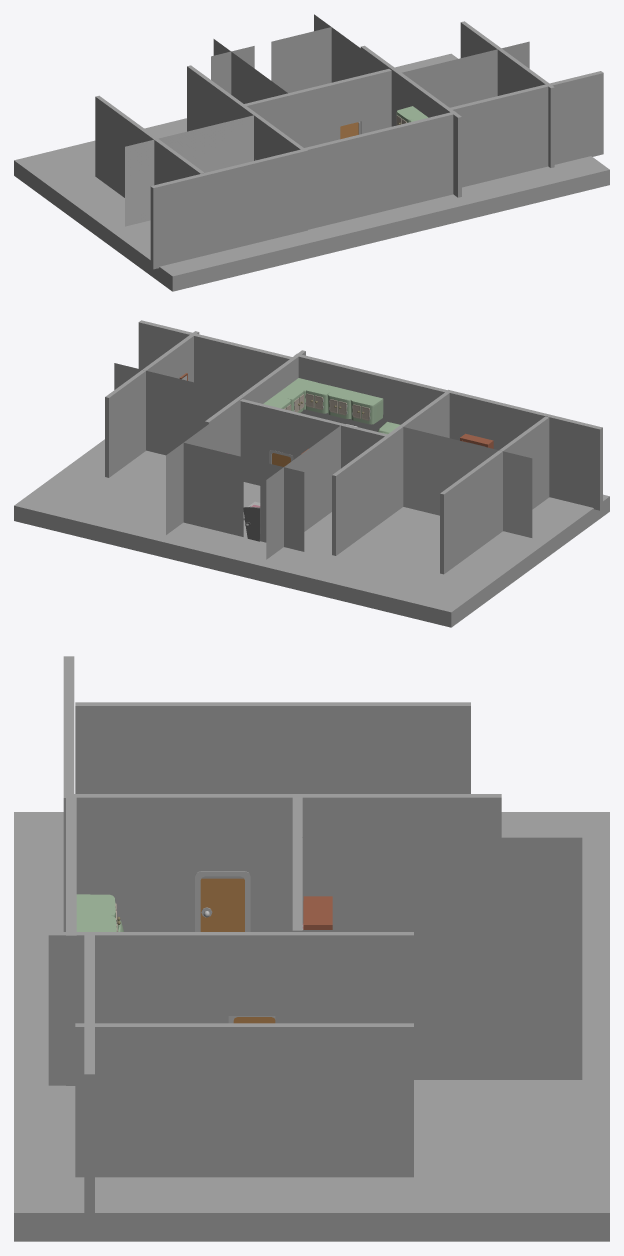
File: Rose and Kirk1.fbx
3 views of the same model, one above another, from view 1: azimuth 30°, elevation 25°; view 2: azimuth 150°, elevation 25°; view 3: azimuth 270°, elevation 25° (orthographic). The views are drawn at different scales.
Visible parts, largest first — view 1: Cube__1_, Cube__10_, Cube__4_, Cube__7_, Quad__4_, Cube__9_, Cube__5_, Quad__5_, Quad__6_, Cube__8_, Cube__11_, Cube (+9 smaller); view 2: Cube__1_, Cube__10_, Cube__9_, Quad__4_, Cube__11_, Cube__7_, Quad__5_, Quad__6_, Cube__8_, Cube__4_, Quad__1_, Quad (+11 smaller); view 3: Cube__1_, Cube__8_, Cube__9_, Quad, Quad__1_, Cube__13_, Cube__3_, Cube__11_, Cube__2_, Cube__14_, Cube__12_, Cube__7_ (+7 smaller).
Boxes of the visible parts, x1,y1,x2,y2 form: Cube__1_: [14, 53, 609, 291]; Cube__10_: [150, 148, 307, 269]; Cube__4_: [300, 111, 457, 229]; Cube__7_: [447, 71, 603, 187]; Quad__4_: [125, 115, 253, 226]; Cube__9_: [95, 95, 204, 197]; Cube__5_: [242, 82, 340, 147]; Quad__5_: [402, 41, 529, 107]; Quad__6_: [271, 27, 331, 93]; Cube__8_: [460, 21, 554, 167]; Cube__11_: [187, 65, 257, 160]; Cube: [360, 69, 391, 133]; Cube__1_: [14, 439, 609, 627]; Cube__10_: [446, 389, 602, 510]; Cube__9_: [440, 416, 549, 574]; Quad__4_: [403, 427, 532, 537]; Cube__11_: [332, 426, 404, 555]; Cube__7_: [138, 320, 294, 393]; Quad__5_: [114, 363, 241, 455]; Quad__6_: [183, 443, 243, 536]; Cube__8_: [105, 331, 199, 477]; Cube__4_: [294, 353, 450, 437]; Quad__1_: [266, 425, 340, 559]; Quad: [166, 401, 240, 534]; Cube__1_: [14, 812, 609, 1241]; Cube__8_: [75, 1023, 413, 1177]; Cube__9_: [75, 702, 470, 793]; Quad: [302, 930, 582, 1079]; Quad__1_: [302, 837, 582, 929]; Cube__13_: [48, 932, 228, 1085]; Cube__3_: [75, 794, 199, 931]; Cube__11_: [245, 794, 501, 931]; Cube__2_: [275, 932, 413, 1023]; Cube__14_: [218, 932, 284, 1015]; Cube__12_: [195, 794, 248, 878]; Cube__7_: [84, 932, 94, 1226].
Bounding box in the file's own units: 317 × 63.35 × 191.
